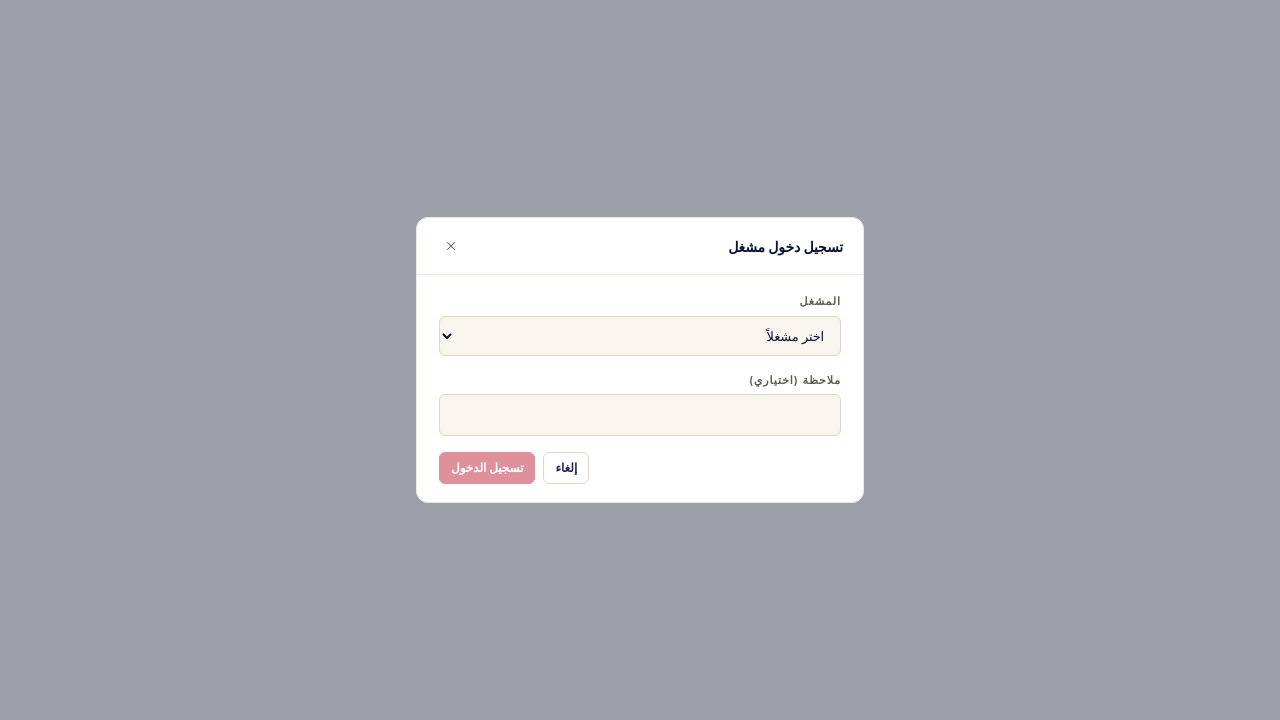
Scenario: Phase-09 §8 component-render: ClockInDialog (dir=rtl) › submit button is disabled while operatorId is unset AND while the mutation is in-flight
The image size is (1280, 720).
Expected: the submit button is disabled, left=439, top=452, right=535, bottom=484
# Select an operator -- submit becomes enabled.
Select "Neda" in the dropdown labelled "المشغل" at [640, 336], box left=439, top=316, right=841, bottom=356
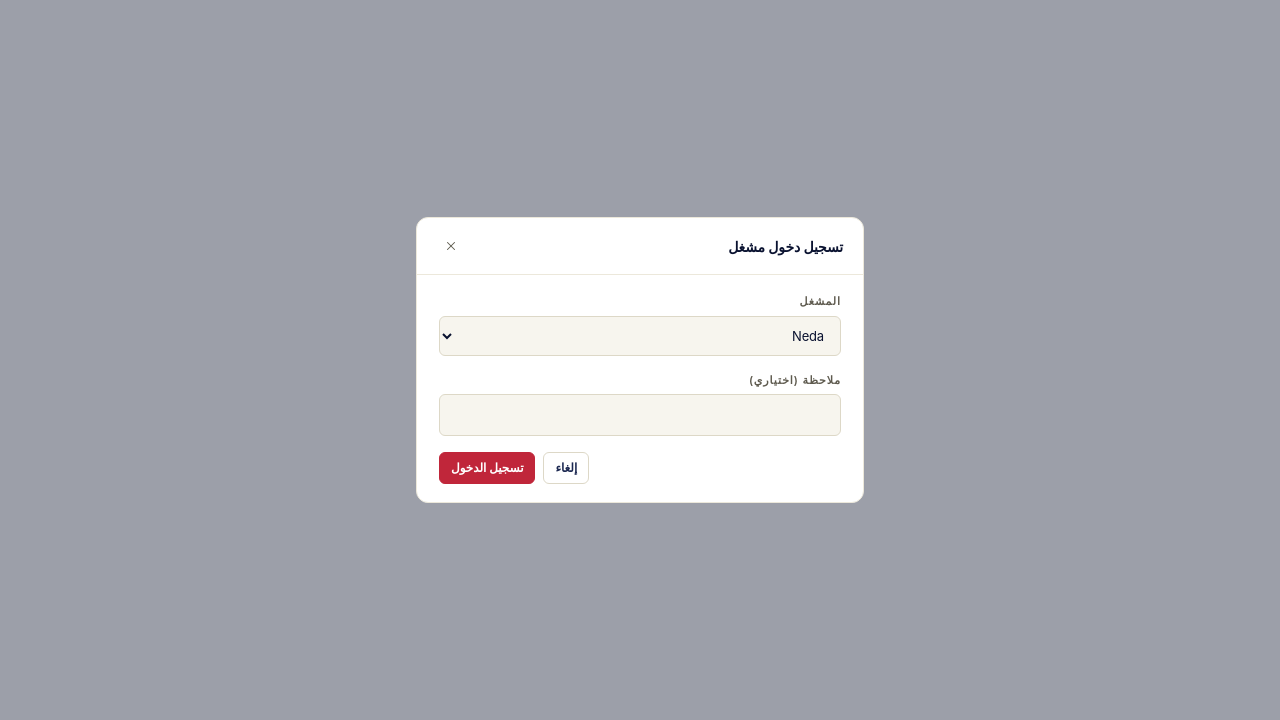
Expected: the submit button is enabled, left=439, top=452, right=535, bottom=484
Submit the form, box left=416, top=217, right=864, bottom=503
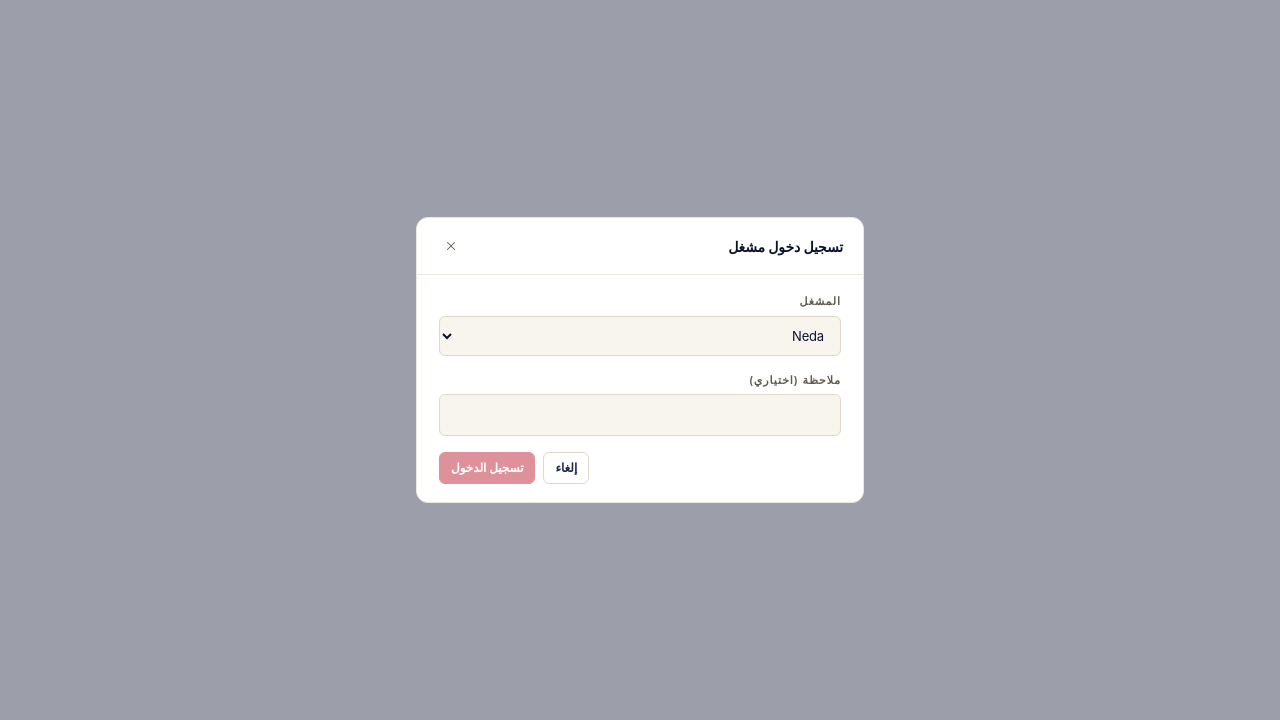
Expected: the submit button is disabled, left=439, top=452, right=535, bottom=484
